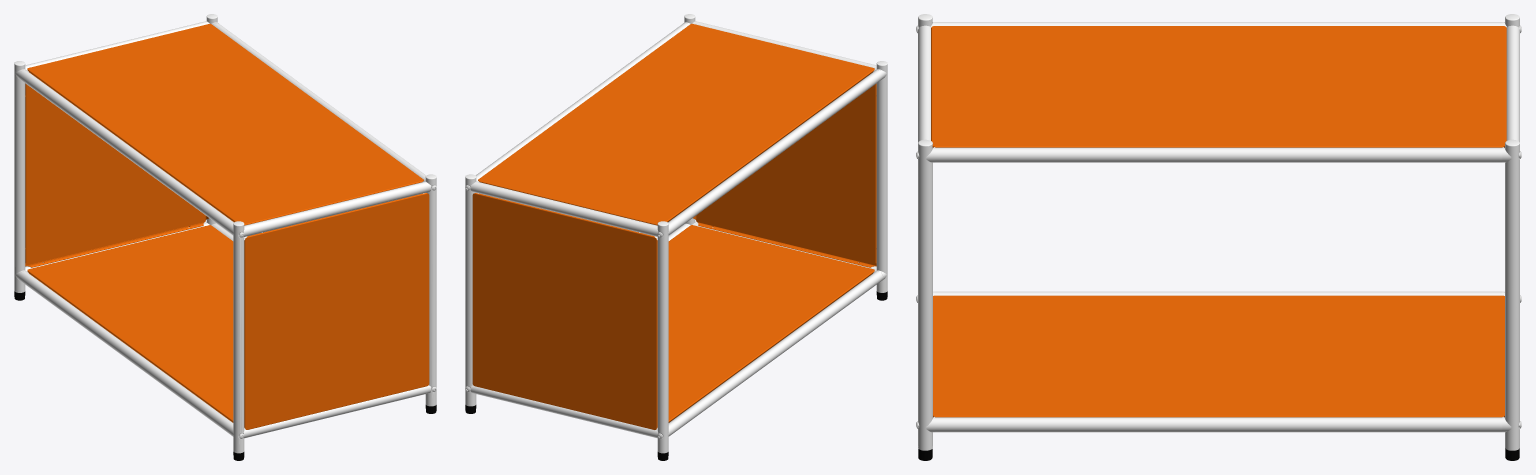
The model's file is 80x40x40-1-8-Orange_optimized_optimized.glb.
3 renders of one model, left to right at view 1: azimuth 30°, elevation 25°; view 2: azimuth 150°, elevation 25°; view 3: azimuth 270°, elevation 25°, orthographic. The views are drawn at different scales.
Parts seen in each view (by area): view 1: 直角鐵板-80x40-5 - 零件, new-上塞-1 - 零件; view 2: 直角鐵板-80x40-5 - 零件, new-上塞-1 - 零件; view 3: 直角鐵板-80x40-5 - 零件, new-上塞-1 - 零件.
Boxes of the visible parts, x1,y1,x2,y2 form: 直角鐵板-80x40-5 - 零件: (25, 23, 429, 429); new-上塞-1 - 零件: (14, 14, 436, 453); 直角鐵板-80x40-5 - 零件: (472, 23, 876, 429); new-上塞-1 - 零件: (465, 14, 887, 453); 直角鐵板-80x40-5 - 零件: (931, 26, 1506, 417); new-上塞-1 - 零件: (916, 14, 1521, 450).
Bounding box in the file's own units: 0.3992 × 0.4453 × 0.7732.
